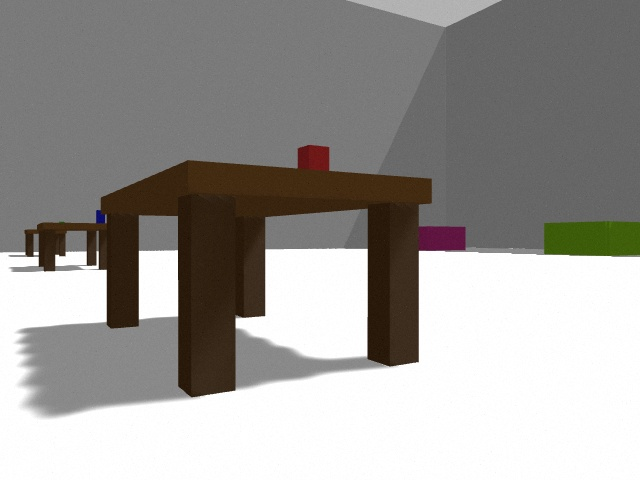blue_cube: (96, 210, 105, 223)
green_drop_zone: (544, 221, 640, 256)
red_cube: (309, 145, 329, 170)
red_drop_zone: (419, 226, 466, 251)
